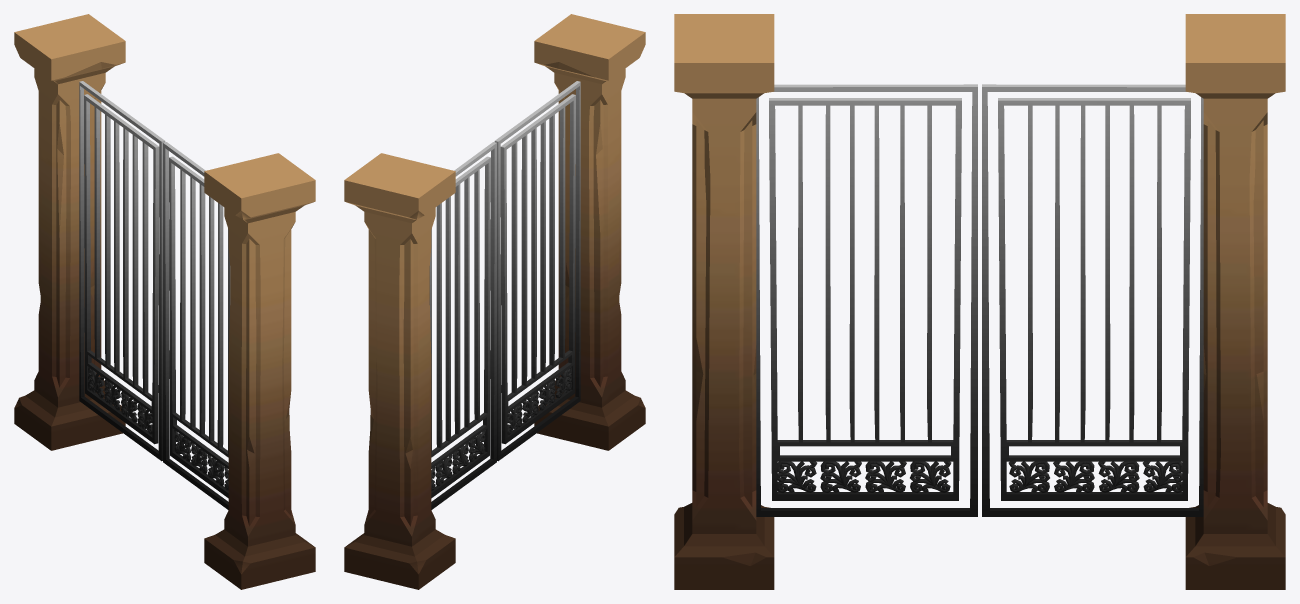
File: shimen.fbx
The picture shows the model from 3 angles, left to right: view 1: azimuth 30°, elevation 25°; view 2: azimuth 150°, elevation 25°; view 3: azimuth 270°, elevation 25°; orthographic projection. The views are drawn at different scales.
Visible parts, largest first — view 1: SM_Env_Dwarf_Pillar_02, polySurface3154, polySurface3155; view 2: SM_Env_Dwarf_Pillar_02, polySurface3155, polySurface3154; view 3: SM_Env_Dwarf_Pillar_02, polySurface3155, polySurface3154.
Boxes of the visible parts, box(x1,y1,x2,y2) form: SM_Env_Dwarf_Pillar_02: box(14, 14, 315, 589); polySurface3154: box(79, 81, 165, 461); polySurface3155: box(163, 142, 230, 509); SM_Env_Dwarf_Pillar_02: box(344, 14, 645, 589); polySurface3155: box(494, 81, 580, 461); polySurface3154: box(429, 142, 496, 509); SM_Env_Dwarf_Pillar_02: box(674, 14, 1285, 589); polySurface3155: box(756, 84, 977, 516); polySurface3154: box(982, 84, 1203, 516).
Size of the model in its own units: 197 by 991 by 1042.
